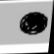correct: (16, 9, 51, 40)
